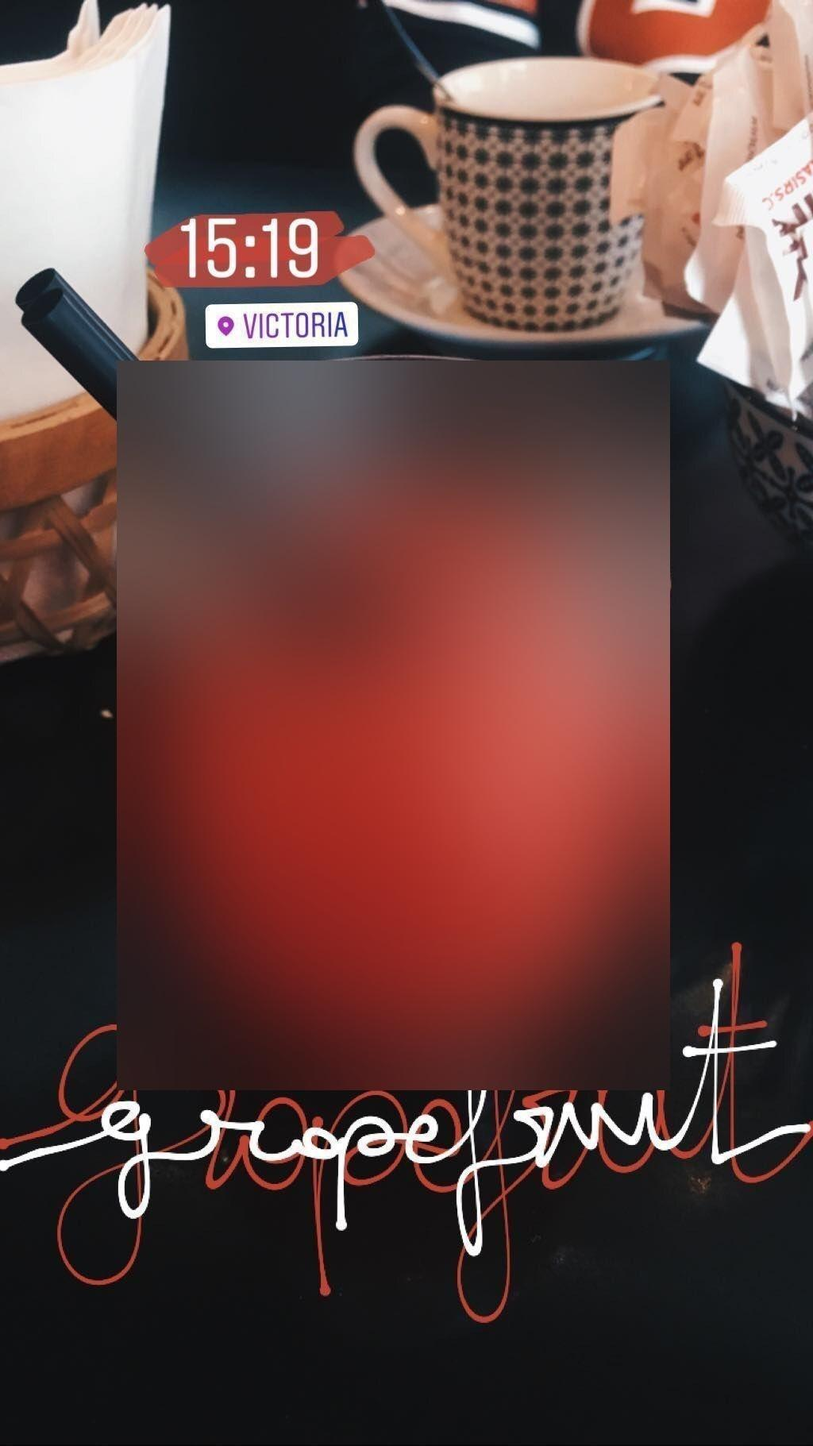cup-handle: (352, 53, 669, 334)
